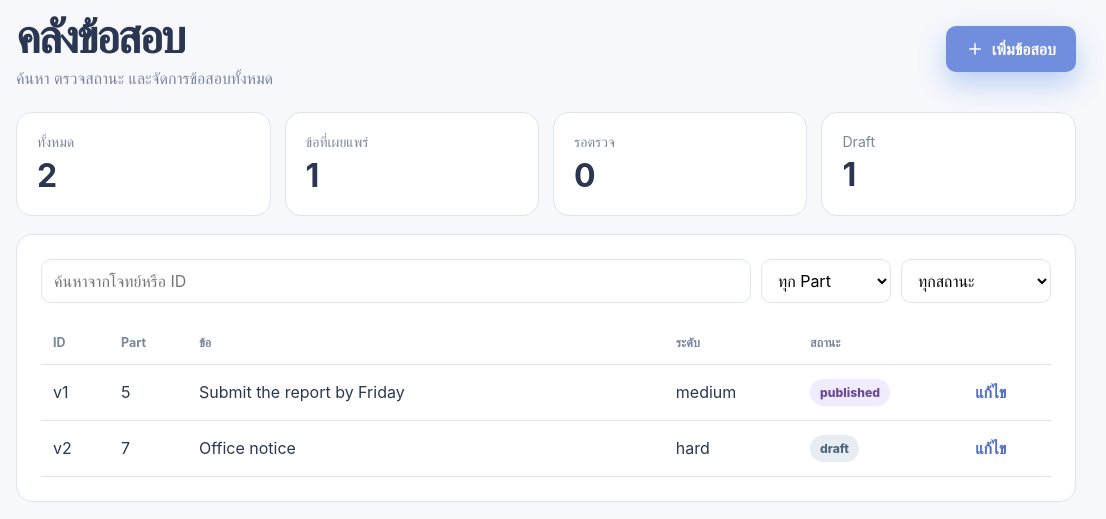
Test: QuestionBankPage › loads questions and filters by prompt
Expected: the text "Submit the report by Friday" is shown, [187,364,664,420]
In the search field: [396, 281] box [41,259,751,303], type "notice"
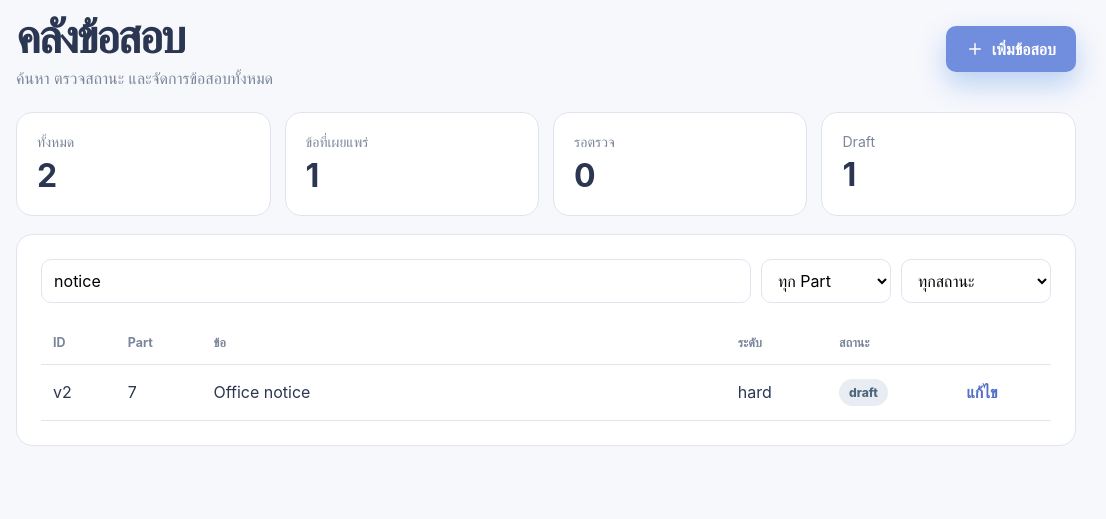
Expected: the text "Office notice" is shown, [202,364,726,420]
Now the text "Submit the report by Friday" is gone
